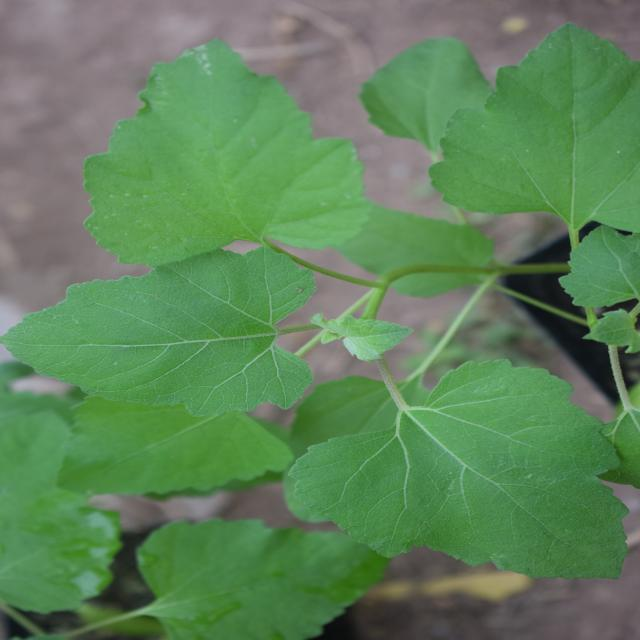cocklebur: (42, 24, 574, 556)
